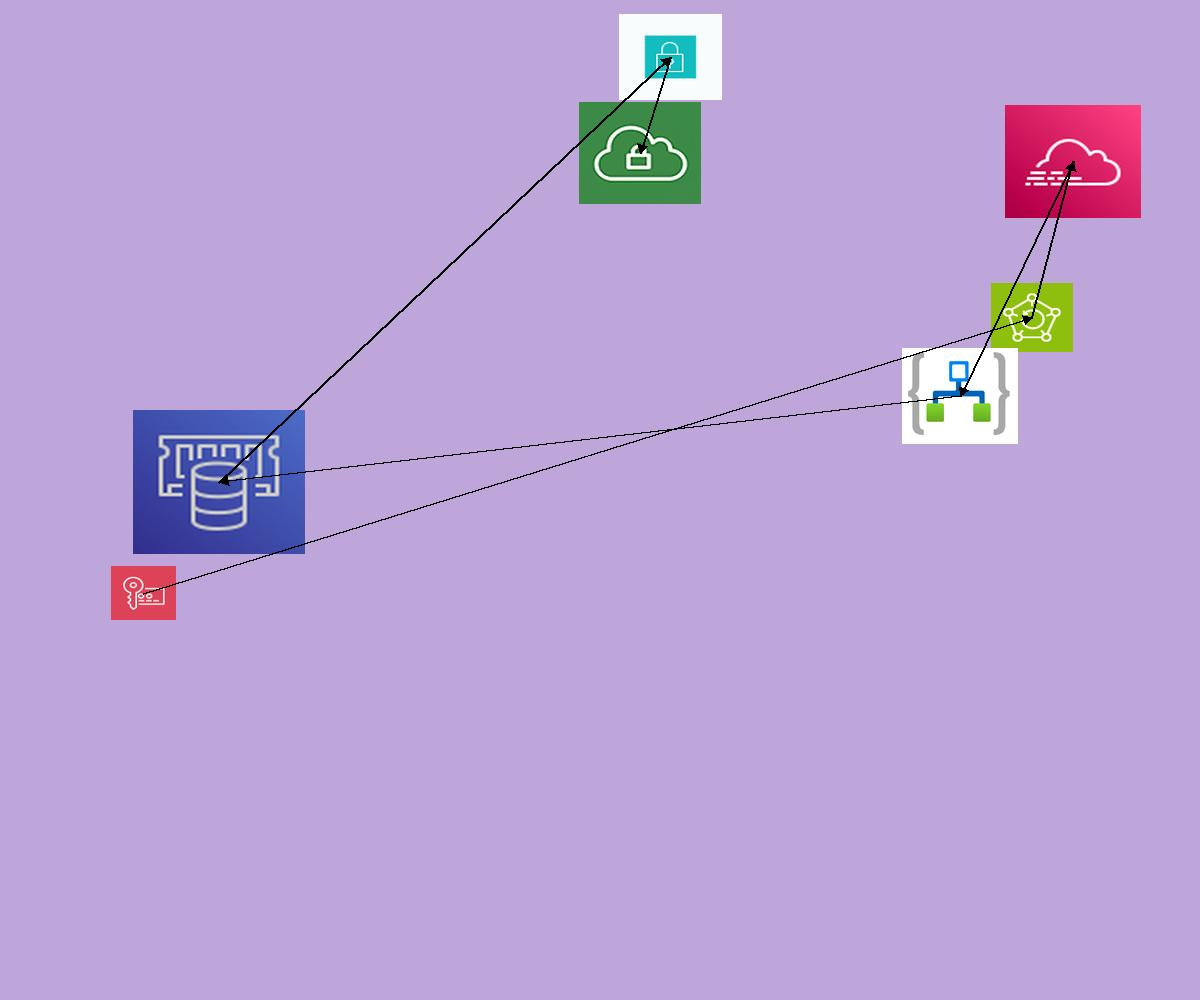AWS-Backup: (991, 283, 1073, 352)
AWS-CloudTrail: (1005, 105, 1141, 218)
AWS-ElastiCache: (133, 410, 305, 554)
AWS-Key-Management-Service: (111, 566, 176, 620)
AWS-Private-subnet: (619, 14, 722, 100)
AWS-Private_vpc: (579, 102, 701, 204)
Azure_integration-204-Logic-Apps: (902, 348, 1018, 444)
